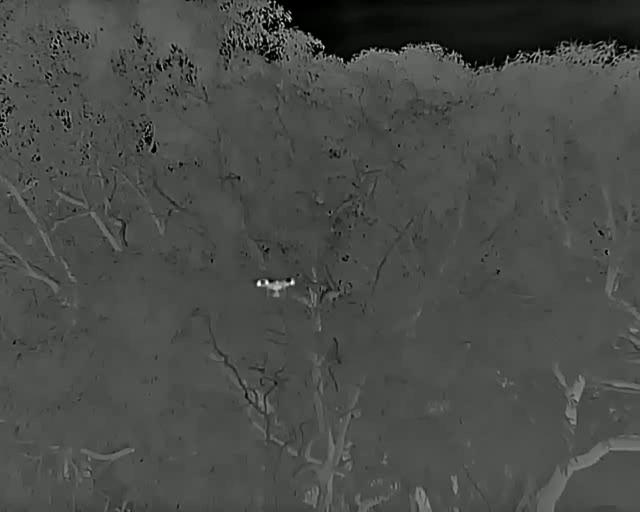DJI-Phantom: (256, 277, 296, 300)
